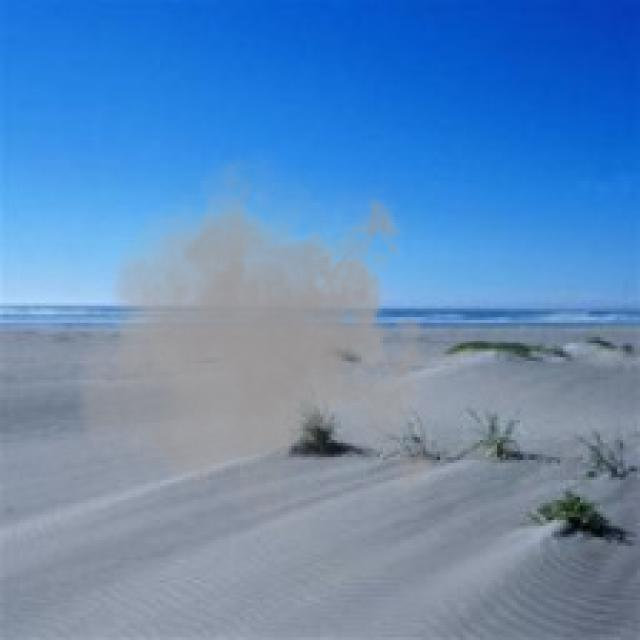Smoke: (71, 137, 446, 552)
